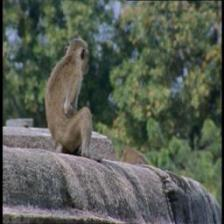monkey: (58, 34, 99, 77)
